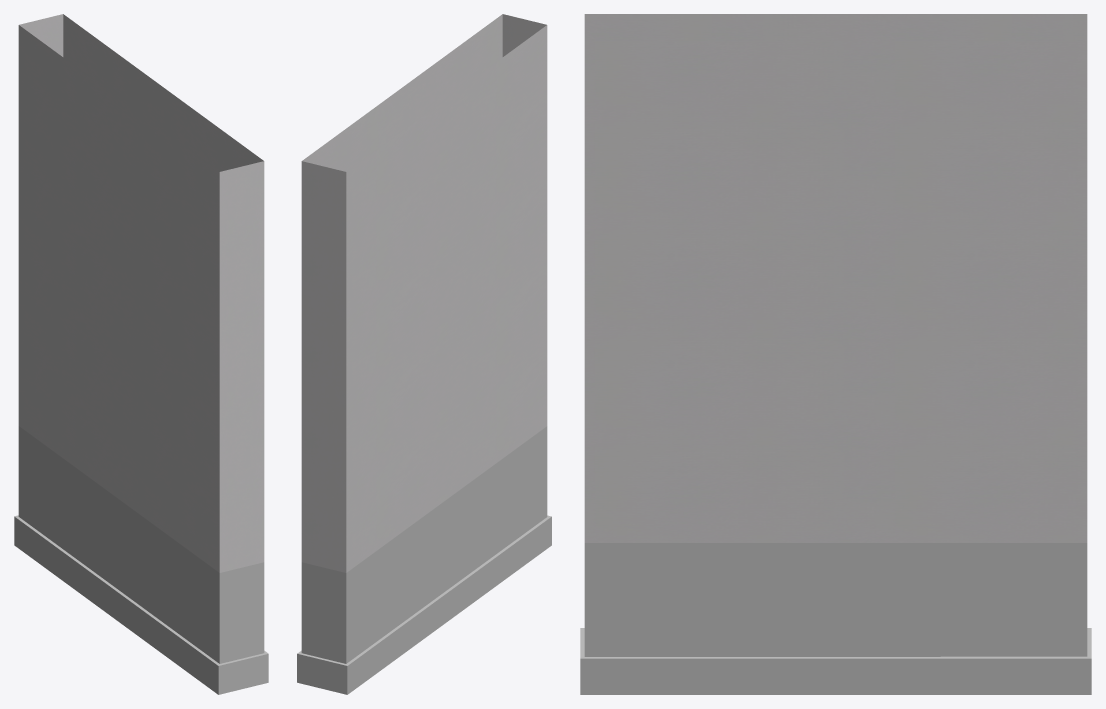
File: SM_Wall_Stone_8.fbx
The picture shows the model from 3 angles, left to right: view 1: azimuth 30°, elevation 25°; view 2: azimuth 150°, elevation 25°; view 3: azimuth 270°, elevation 25°; orthographic projection. The views are drawn at different scales.
Visible parts, largest first — view 1: SM_Wall_Stone_8; view 2: SM_Wall_Stone_8; view 3: SM_Wall_Stone_8.
Part boxes in pixels (<box>): SM_Wall_Stone_8: <box>14,14,268,694</box>; SM_Wall_Stone_8: <box>297,14,551,694</box>; SM_Wall_Stone_8: <box>580,14,1091,694</box>.
Bounding box in the file's own units: 47.44 × 334 × 470.
